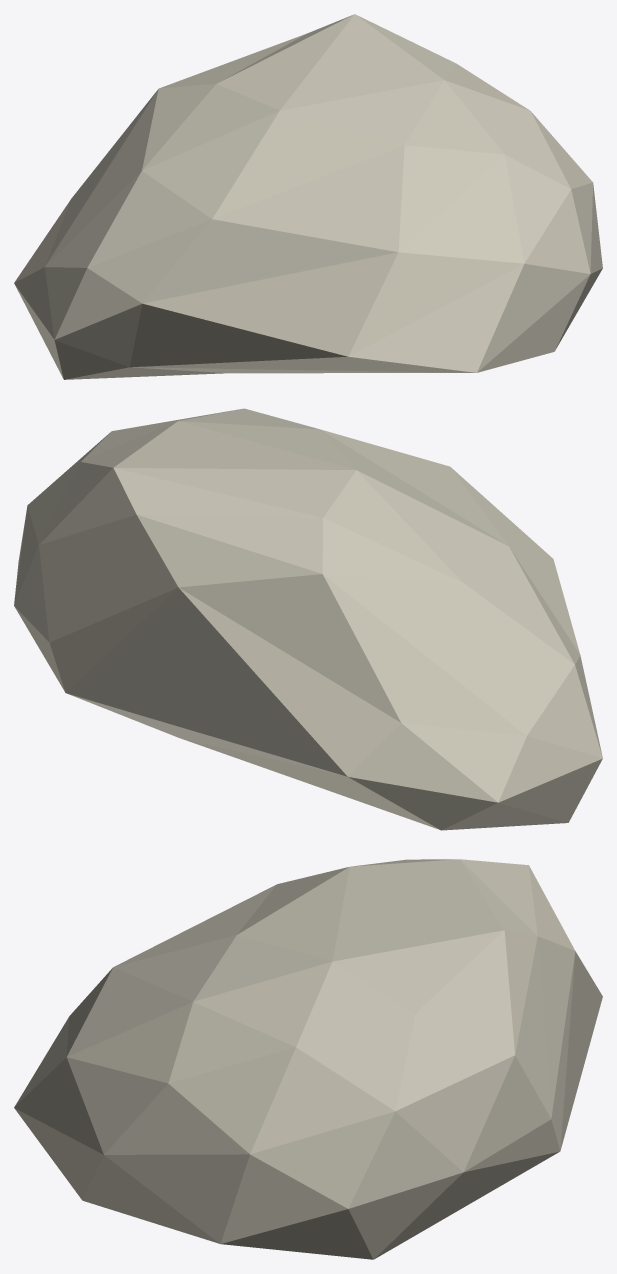
Rendered from Rock_02.fbx.
3 views of the same model, one above another, from view 1: azimuth 30°, elevation 25°; view 2: azimuth 150°, elevation 25°; view 3: azimuth 270°, elevation 25° (orthographic). The views are drawn at different scales.
Visible parts, largest first — view 1: Rock_02a; view 2: Rock_02a; view 3: Rock_02a.
Part boxes in pixels (x1,y1,x2,y2): Rock_02a: (14,14,602,379); Rock_02a: (14,408,602,830); Rock_02a: (14,859,602,1259).
Bounding box in the file's own units: 179 × 87.68 × 153.
